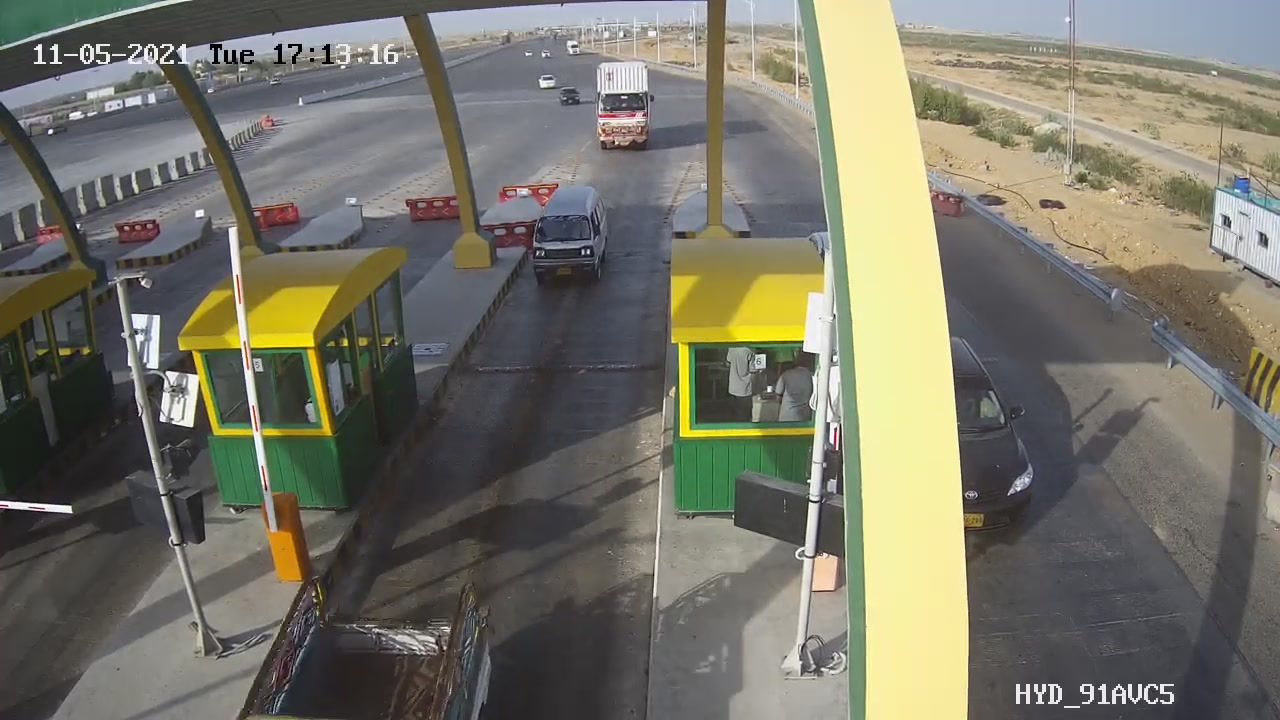F1: (518, 177, 624, 296)
